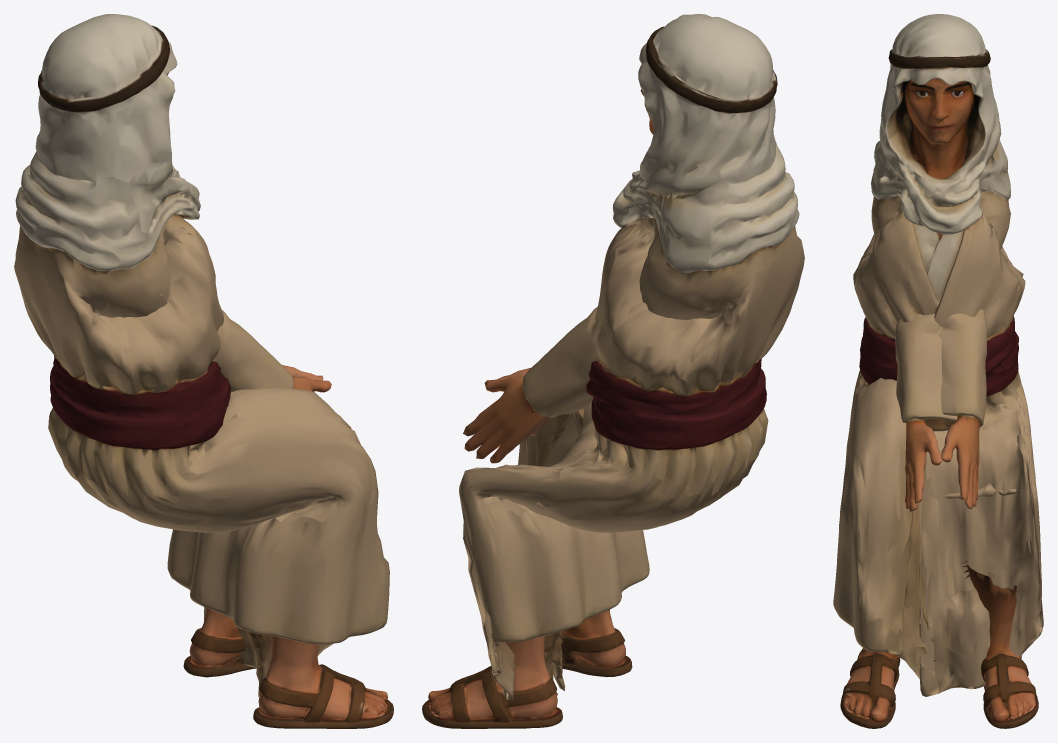
File: traveler-sit.glb
3 views of the same model, side by side, from view 1: azimuth 30°, elevation 25°; view 2: azimuth 150°, elevation 25°; view 3: azimuth 270°, elevation 25° (orthographic). The views are drawn at different scales.
Visible parts, largest first — view 1: traveler_seated; view 2: traveler_seated; view 3: traveler_seated.
Part boxes in pixels (x1=…): traveler_seated: x1=14, y1=14, x2=393, y2=728; traveler_seated: x1=422, y1=14, x2=804, y2=728; traveler_seated: x1=833, y1=14, x2=1043, y2=728.
Bounding box in the file's own units: 0.3925 × 0.8395 × 0.2618.
Materials: 1 (1 with a texture image).
